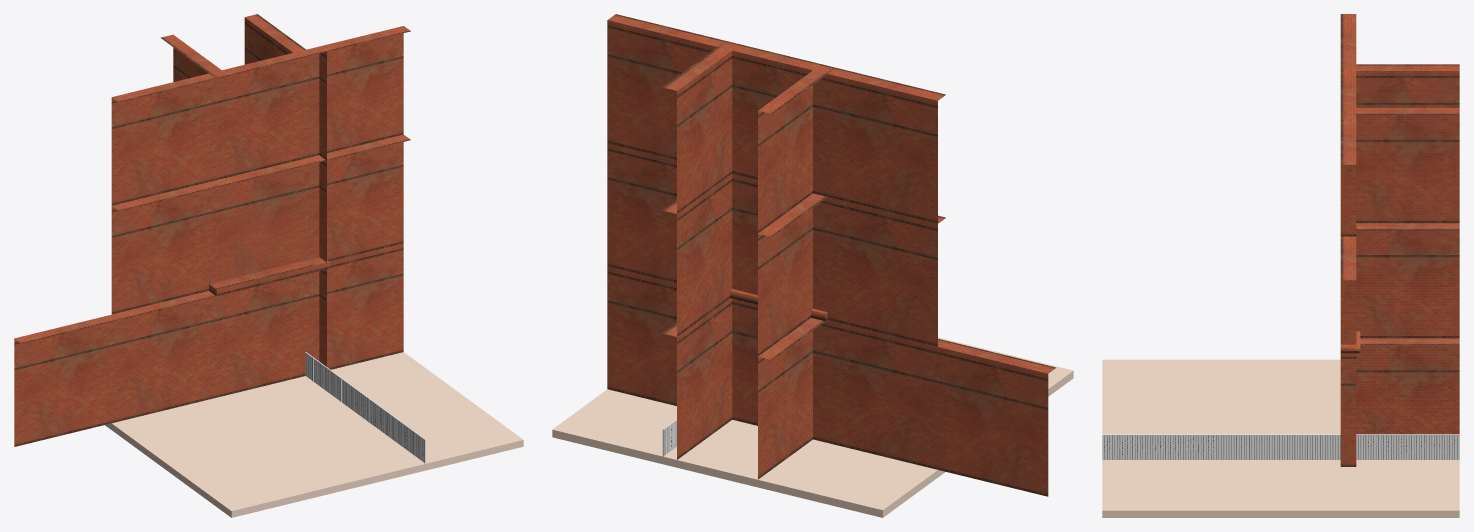
File: external_elements.fbx
The picture shows the model from 3 angles, left to right: view 1: azimuth 30°, elevation 25°; view 2: azimuth 150°, elevation 25°; view 3: azimuth 270°, elevation 25°; orthographic projection. The views are drawn at different scales.
Parts seen in each view (by area): view 1: plateform_3X3, external_wall_2X3, external_wall_2X2, external_wall_3X2, external_wall_1X3, external_wall_3X3, external_wall_1X2, external_wall_corner_3X1X1_B, external_wall_corner_1X1X1_A, plateform_angle_2X2, external_wall_corner_2X1X1_A, external_wall_corner_3X1X1_A (+20 smaller); view 2: external_wall_2X3, external_wall_3X3, external_wall_2X2, external_wall_1X3, plateform_3X3, external_wall_corner_3X1X1_B, external_wall_3X2, external_wall_corner_2X1X1_B, external_wall_corner_3X1X1_A, external_wall_corner_2X1X1_A, external_wall_corner_1X1X1_A, external_wall_1X2 (+6 smaller); view 3: plateform_3X3, external_wall_corner_2X1X1_B, external_wall_corner_3X1X1_B, external_wall_corner_1X1X1_B, frontage_connect_X3, plateform_angle_2X2, external_wall_corner_3X1X1_A, plateform_1X3, plateform_2X2, platform_handrail_ext_X3, platform_handrail_ext_X2, Corner_X2 (+9 smaller).
Part boxes in pixels (bbox=[...]): plateform_3X3: bbox=[105, 352, 523, 517]; external_wall_2X3: bbox=[111, 134, 410, 422]; external_wall_2X2: bbox=[111, 166, 306, 422]; external_wall_3X2: bbox=[111, 50, 306, 205]; external_wall_1X3: bbox=[14, 286, 304, 446]; external_wall_3X3: bbox=[111, 26, 410, 204]; external_wall_1X2: bbox=[111, 282, 306, 422]; external_wall_corner_3X1X1_B: bbox=[209, 14, 305, 181]; external_wall_corner_1X1X1_A: bbox=[222, 274, 306, 396]; plateform_angle_2X2: bbox=[209, 358, 466, 444]; external_wall_corner_2X1X1_A: bbox=[214, 163, 313, 280]; external_wall_corner_3X1X1_A: bbox=[160, 34, 309, 177]; external_wall_2X3: bbox=[607, 143, 944, 468]; external_wall_3X3: bbox=[607, 14, 944, 222]; external_wall_2X2: bbox=[745, 197, 945, 469]; external_wall_1X3: bbox=[733, 299, 1056, 496]; plateform_3X3: bbox=[552, 337, 1073, 517]; external_wall_corner_3X1X1_B: bbox=[663, 41, 834, 336]; external_wall_3X2: bbox=[730, 42, 945, 223]; external_wall_corner_2X1X1_B: bbox=[663, 173, 827, 459]; external_wall_corner_3X1X1_A: bbox=[719, 41, 835, 355]; external_wall_corner_2X1X1_A: bbox=[732, 175, 827, 477]; external_wall_corner_1X1X1_A: bbox=[733, 308, 825, 479]; external_wall_1X2: bbox=[732, 299, 945, 469]; plateform_3X3: bbox=[1102, 359, 1459, 517]; external_wall_corner_2X1X1_B: bbox=[1356, 223, 1459, 434]; external_wall_corner_3X1X1_B: bbox=[1340, 64, 1459, 337]; external_wall_corner_1X1X1_B: bbox=[1356, 338, 1459, 434]; frontage_connect_X3: bbox=[1221, 359, 1324, 510]; plateform_angle_2X2: bbox=[1221, 433, 1457, 517]; external_wall_corner_3X1X1_A: bbox=[1340, 64, 1459, 114]; plateform_1X3: bbox=[1221, 359, 1340, 510]; plateform_2X2: bbox=[1222, 461, 1459, 517]; platform_handrail_ext_X3: bbox=[1102, 434, 1458, 460]; platform_handrail_ext_X2: bbox=[1224, 434, 1459, 460]; Corner_X2: bbox=[1340, 280, 1356, 466].
Bounding box in the file's own units: 1200 × 980 × 900.
